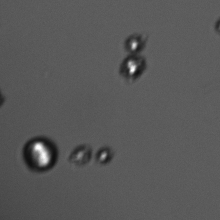Living Cell: (21, 135, 59, 173), (118, 55, 147, 81), (123, 32, 147, 54), (68, 144, 90, 166), (95, 145, 113, 165)
